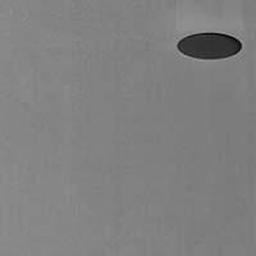Punching: (177, 32, 243, 60)
